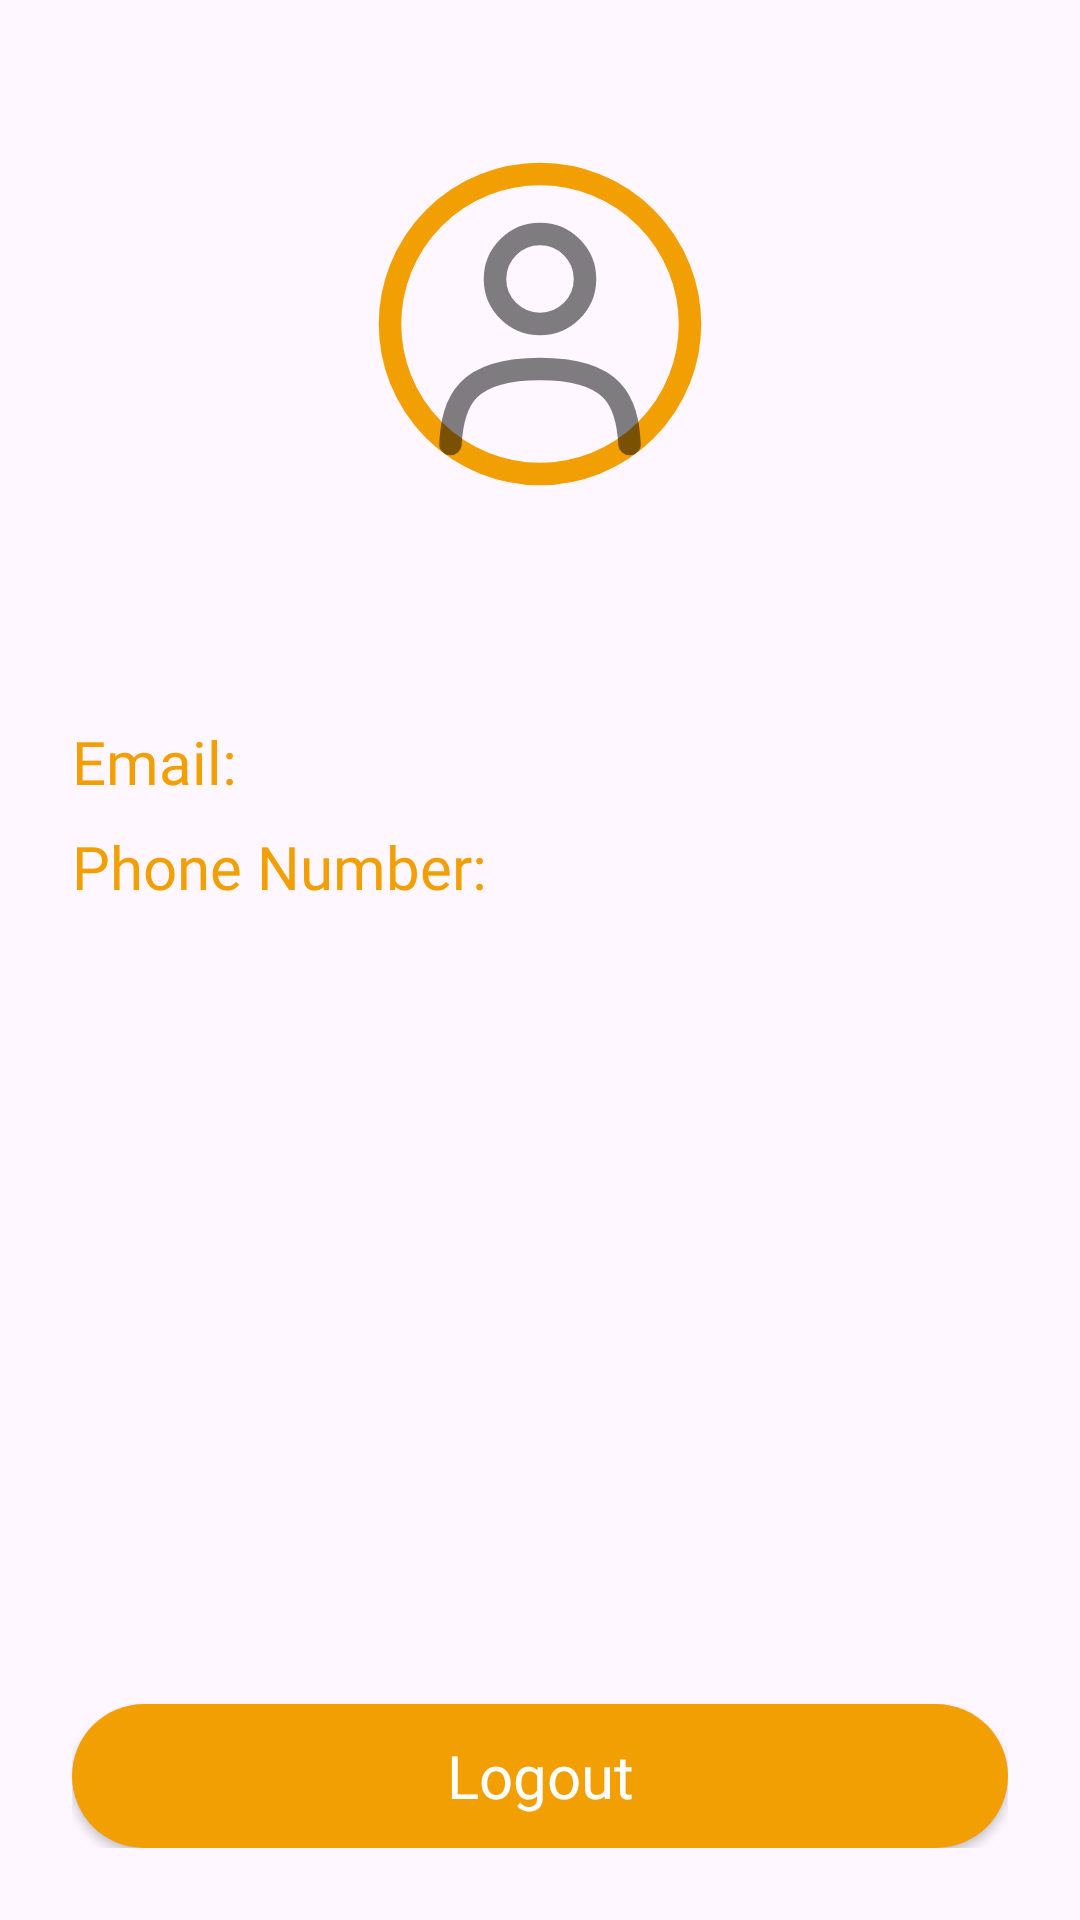

Icon click points for this 1080px x 1920px phone screenshot, format (x,y):
user: (540,324)
